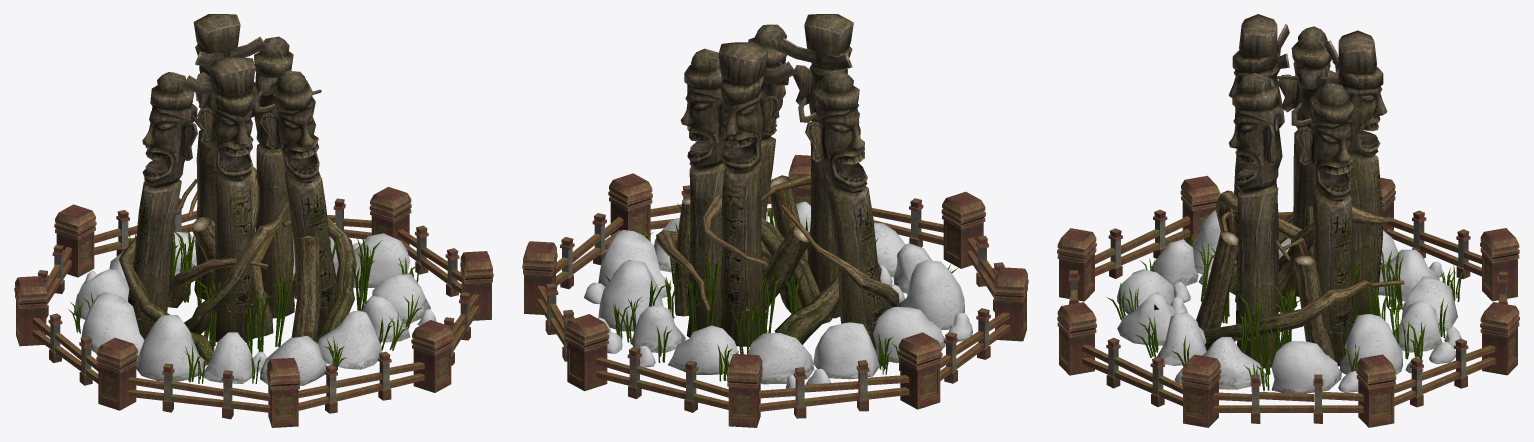
3 renders of one model, left to right at view 1: azimuth 30°, elevation 25°; view 2: azimuth 150°, elevation 25°; view 3: azimuth 270°, elevation 25°, orthographic. The views are drawn at different scales.
Visible parts, largest first — view 1: 2st_obj_002; view 2: 2st_obj_002; view 3: 2st_obj_002.
Boxes of the visible parts, x1,y1,x2,y2 form: 2st_obj_002: (14,14,493,427); 2st_obj_002: (522,14,1028,427); 2st_obj_002: (1057,14,1519,427).
Size of the model in its own units: 16.38 by 11.75 by 16.38.
